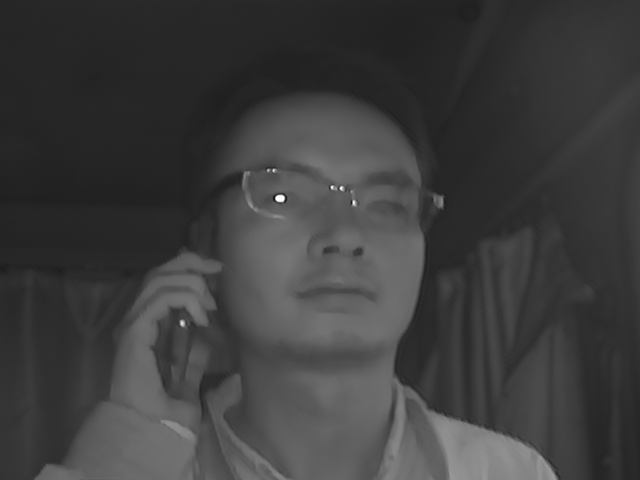hand: (108, 250, 226, 429)
